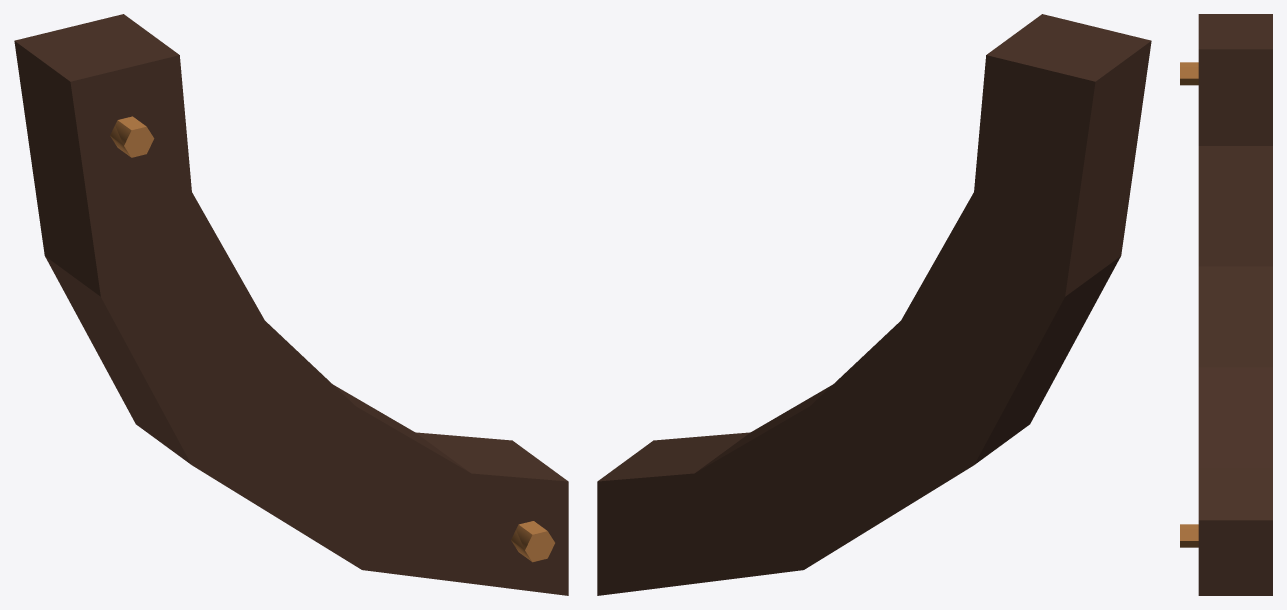
The model's file is 833_curved_knee_brace.fbx.
The picture shows the model from 3 angles, left to right: view 1: azimuth 30°, elevation 25°; view 2: azimuth 150°, elevation 25°; view 3: azimuth 270°, elevation 25°; orthographic projection. The views are drawn at different scales.
Visible parts, largest first — view 1: 833_curved_knee_brace; view 2: 833_curved_knee_brace; view 3: 833_curved_knee_brace.
Part boxes in pixels (x1,y1,x2,y2): 833_curved_knee_brace: (14,14,568,595); 833_curved_knee_brace: (597,14,1151,595); 833_curved_knee_brace: (1180,14,1272,595).
Size of the model in its own units: 0.82 by 1 by 0.2.
1 material, 1 textured.
